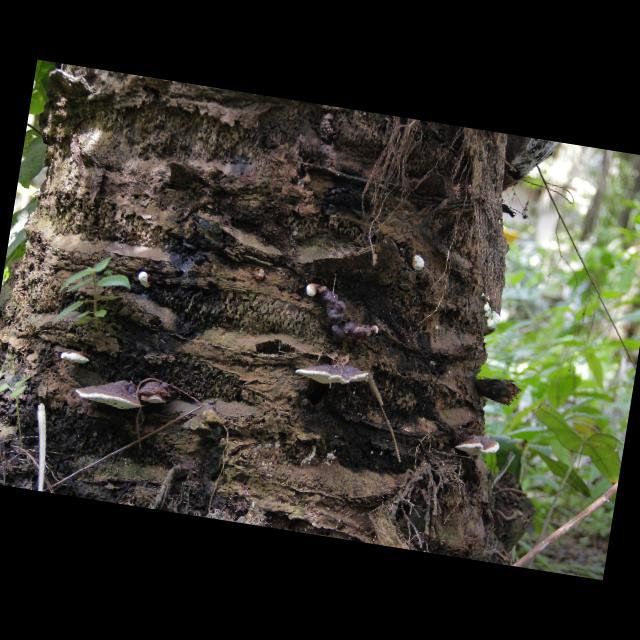ganoderma: (312, 287, 377, 351), (74, 375, 146, 414), (295, 357, 372, 392), (455, 433, 502, 461), (137, 380, 179, 409), (61, 350, 92, 366)
primordium: (138, 272, 155, 290), (411, 256, 427, 273), (306, 284, 320, 300), (372, 325, 380, 336), (436, 327, 441, 333)
